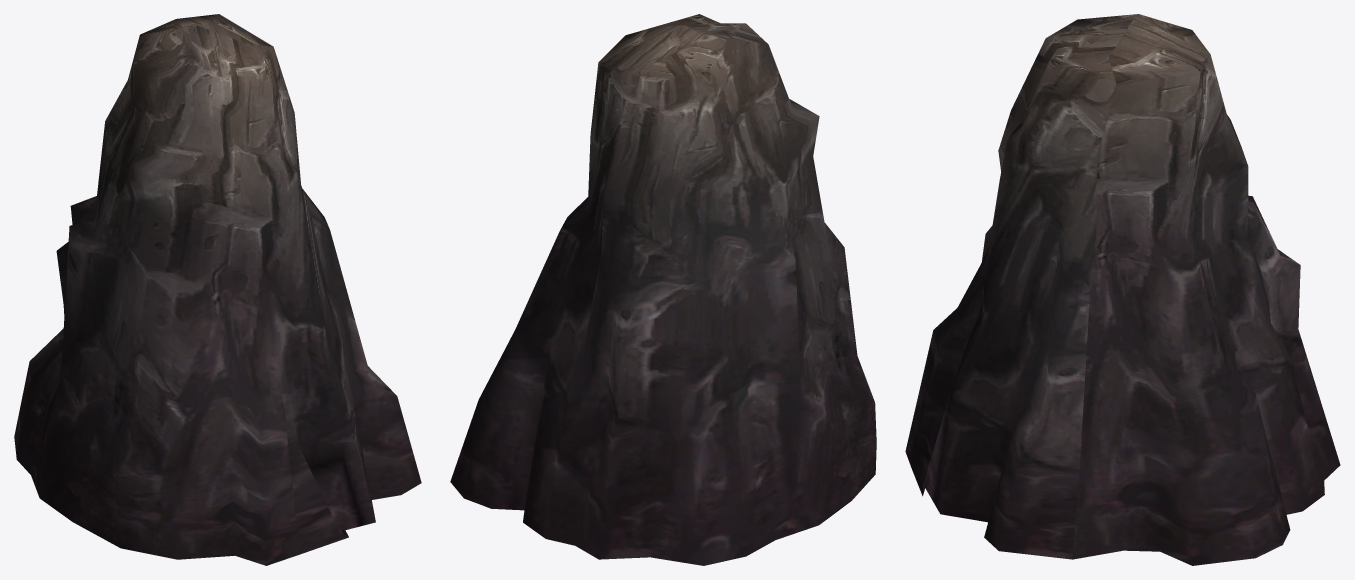
Rendered from environment_stone_qiaobi_002_c.FBX.
3 renders of one model, left to right at view 1: azimuth 30°, elevation 25°; view 2: azimuth 150°, elevation 25°; view 3: azimuth 270°, elevation 25°, orthographic.
Visible parts, largest first — view 1: environment_stone_qiaobi_002_c; view 2: environment_stone_qiaobi_002_c; view 3: environment_stone_qiaobi_002_c.
Boxes of the visible parts, x1,y1,x2,y2 form: environment_stone_qiaobi_002_c: [14, 14, 421, 565]; environment_stone_qiaobi_002_c: [450, 14, 876, 565]; environment_stone_qiaobi_002_c: [905, 14, 1340, 565].
Size of the model in its own units: 405 by 524 by 453.
1 material, 1 textured.
